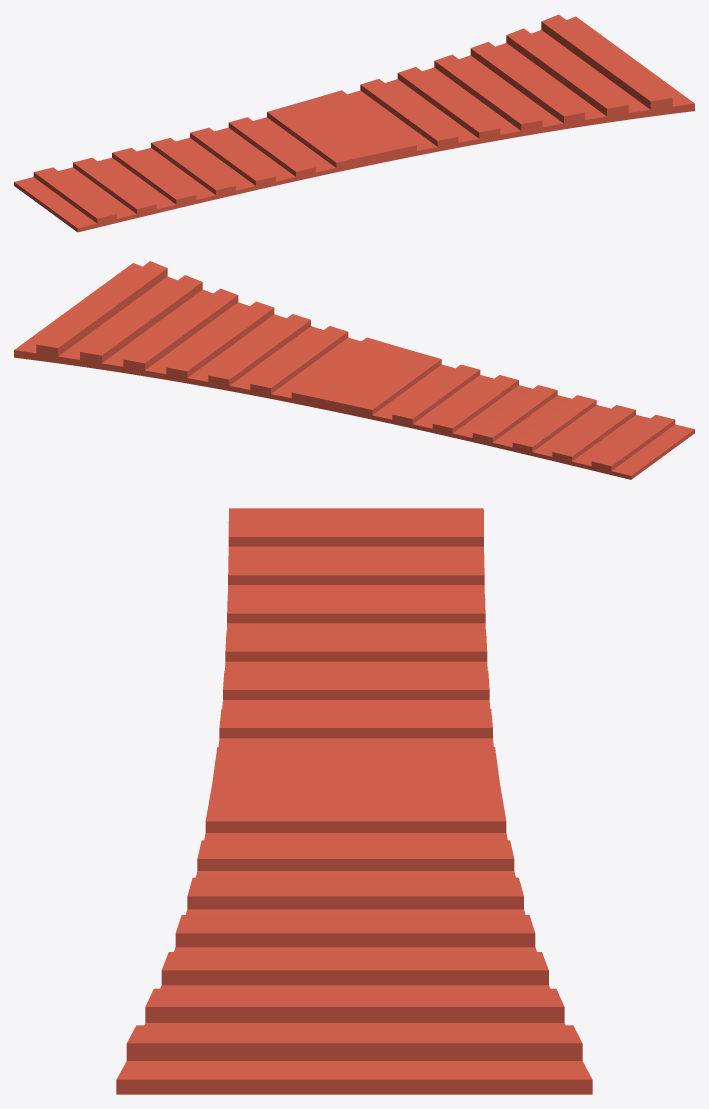
File: Bridge2.fbx
The picture shows the model from 3 angles, top to bottom: view 1: azimuth 30°, elevation 25°; view 2: azimuth 150°, elevation 25°; view 3: azimuth 270°, elevation 25°; orthographic projection. The views are drawn at different scales.
Visible parts, largest first — view 1: Bridge; view 2: Bridge; view 3: Bridge.
Boxes of the visible parts, x1,y1,x2,y2 form: Bridge: (14, 14, 694, 232); Bridge: (14, 261, 694, 479); Bridge: (116, 508, 592, 1094).
Bounding box in the file's own units: 328 × 8.53 × 115.
